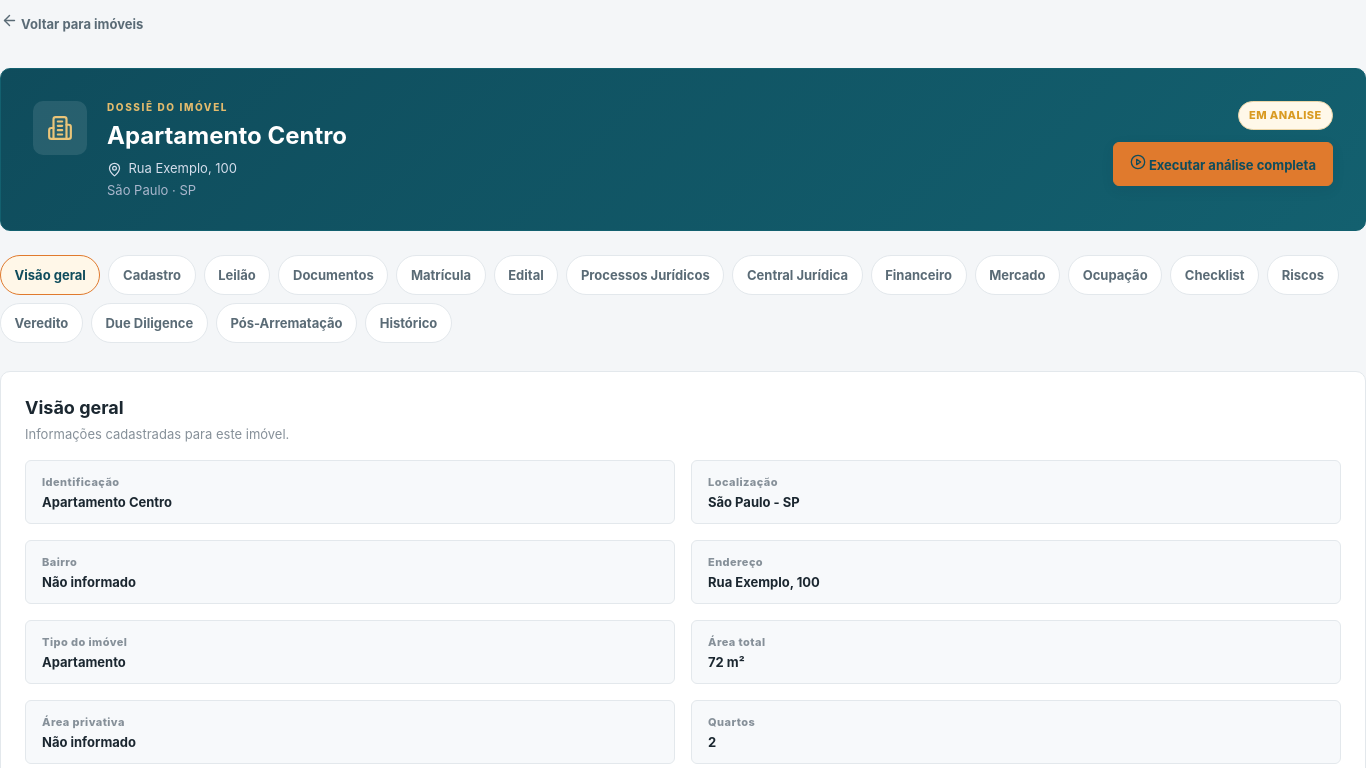
Test: PropertyDetailPage › abre a seção Documentos real dentro do imóvel
This screenshot has width=1366, height=768.
Expected: the heading "Apartamento Centro" is shown, [107,121,347,150]
Click the button "Documentos" at coordinates (333, 275), box [278,255,388,295]
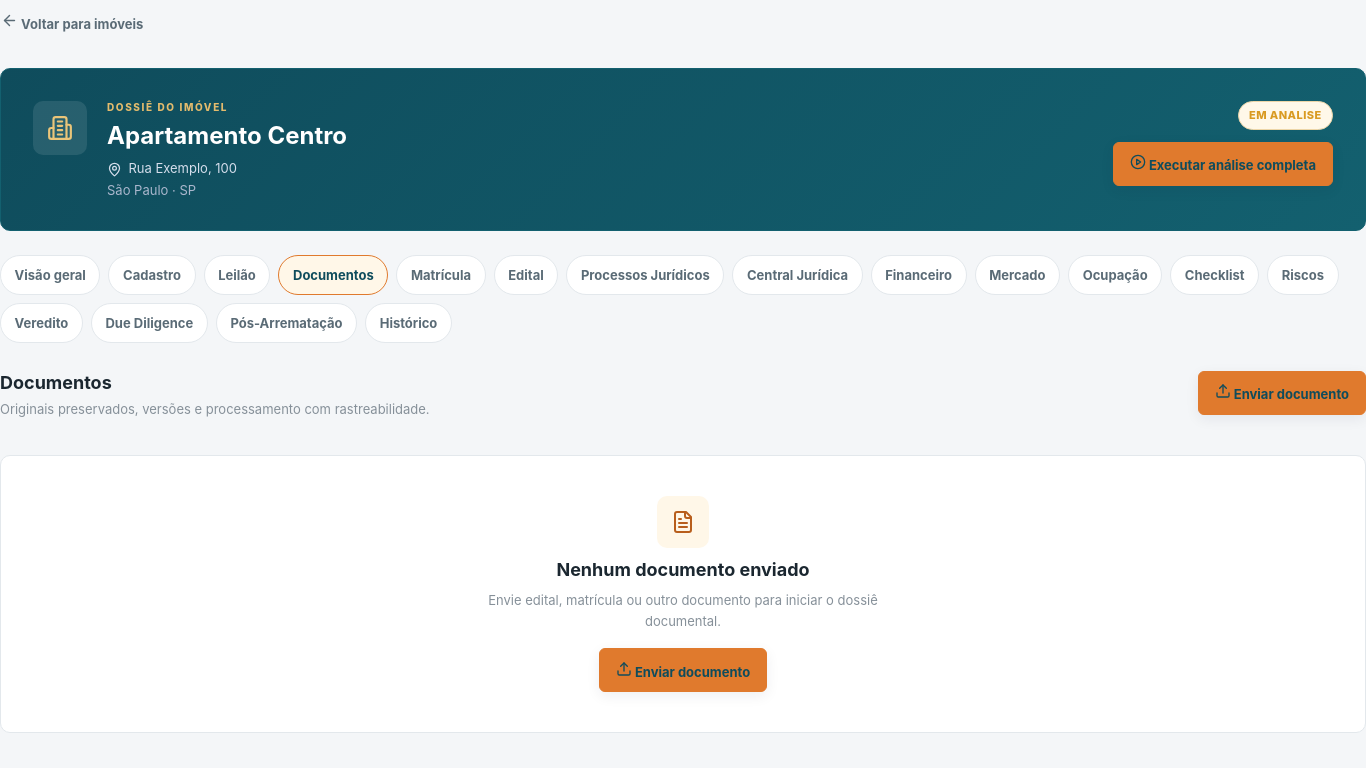
Expected: the heading "Nenhum documento enviado" is shown, [556,559,810,580]
